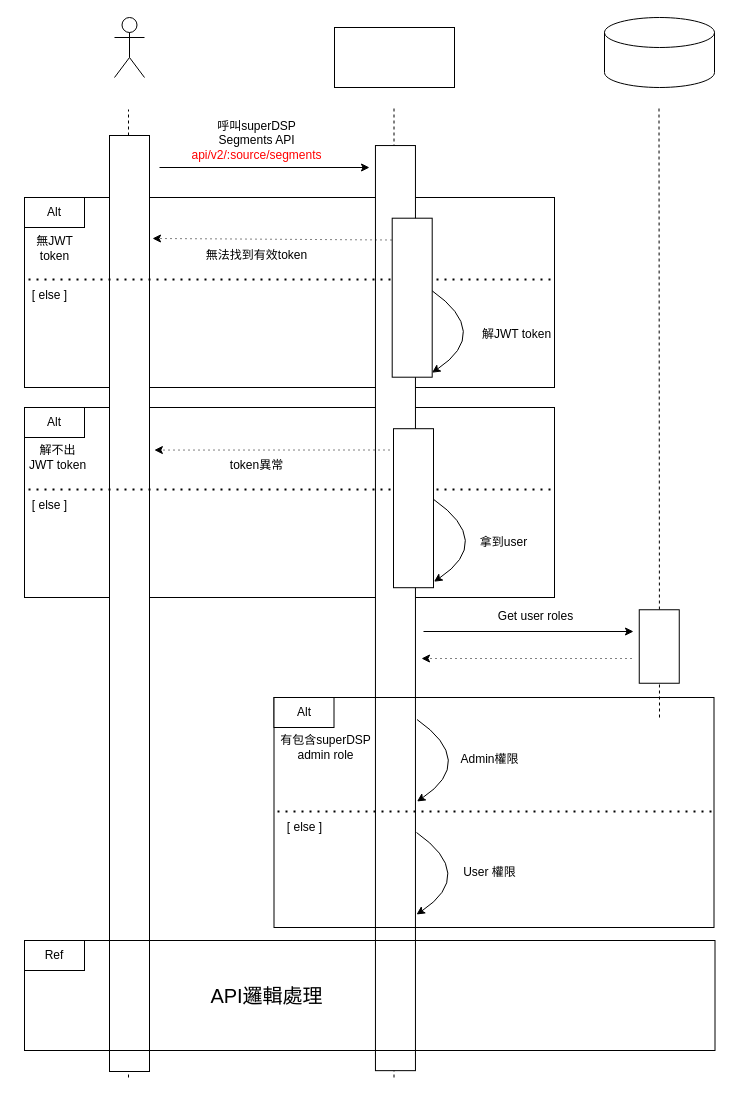
Image size: 732x1096. Some labels were removed from this diagram. Here are the shapes that lost their labels. From the top down, the centre of each, then its label:
point 129,47: User
point 394,57: Segments Module
point 659,52: GspAdmin
